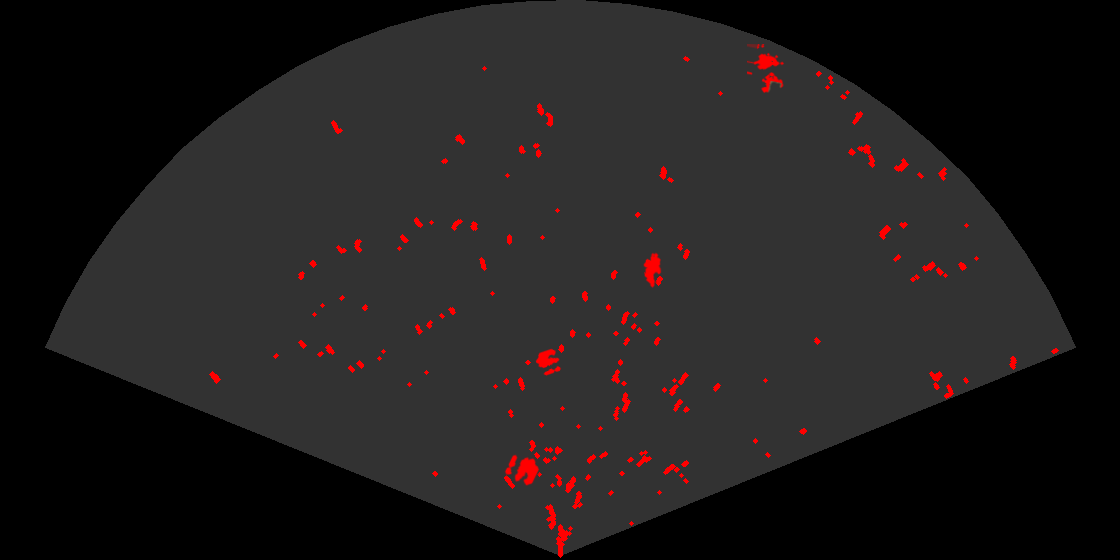AUV: (642, 251, 663, 289)
ball: (503, 453, 541, 487), (534, 347, 563, 377)
cage: (747, 44, 786, 95)
